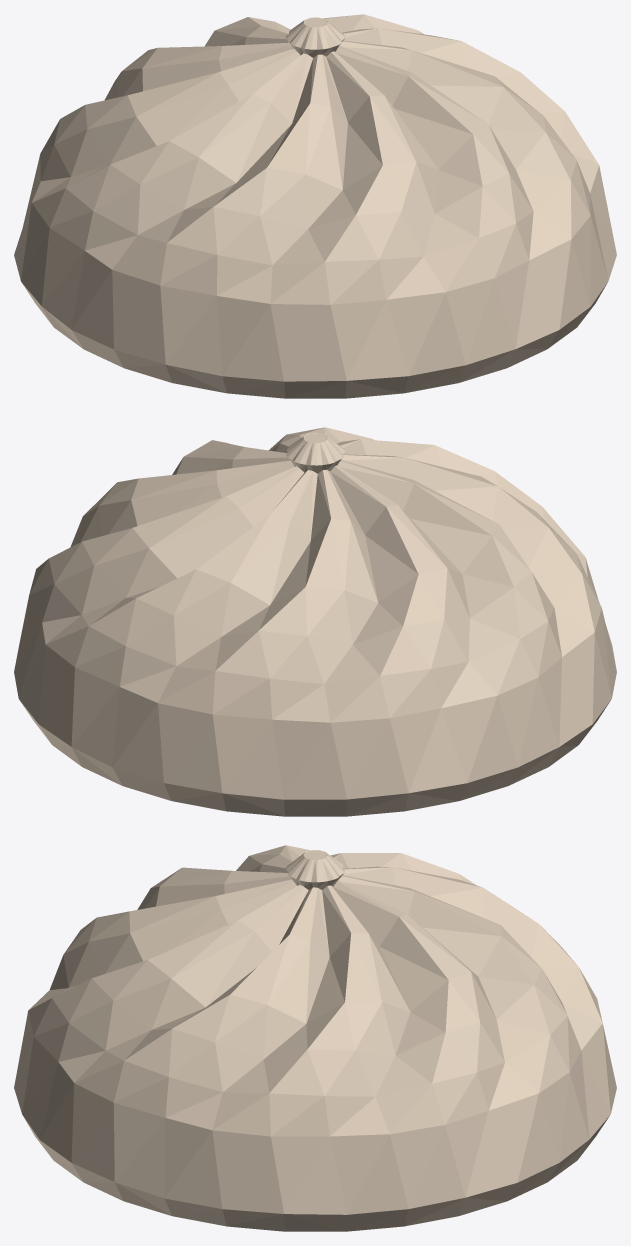
The model's file is SM_Cook_Bao_01.fbx.
The picture shows the model from 3 angles, top to bottom: view 1: azimuth 30°, elevation 25°; view 2: azimuth 150°, elevation 25°; view 3: azimuth 270°, elevation 25°; orthographic projection.
Visible parts, largest first — view 1: SM_Cook_Bao_01; view 2: SM_Cook_Bao_01; view 3: SM_Cook_Bao_01.
Boxes of the visible parts, box(x1,y1,x2,y2) form: SM_Cook_Bao_01: box(14, 14, 616, 398); SM_Cook_Bao_01: box(14, 427, 616, 816); SM_Cook_Bao_01: box(14, 845, 616, 1231).
Size of the model in its own units: 0.0855 by 0.0435 by 0.0859.
1 material, 1 textured.
